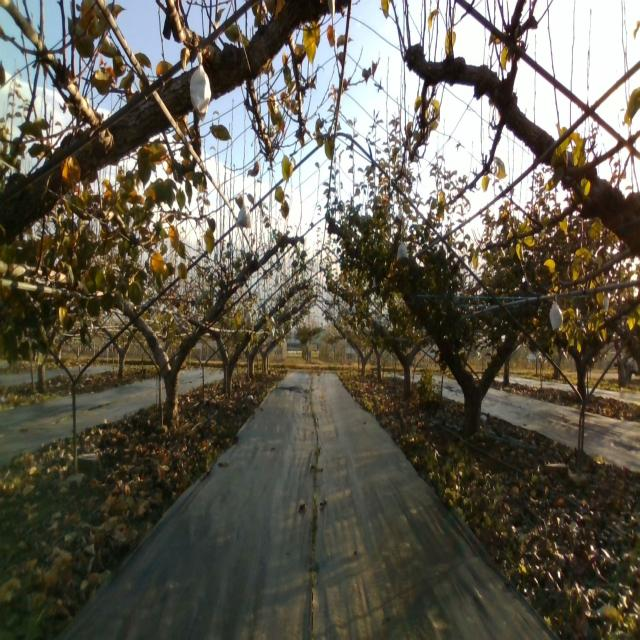pearbags: (189, 52, 212, 121), (550, 299, 563, 331), (236, 205, 252, 228), (396, 241, 410, 261)
